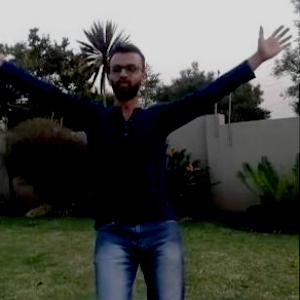takeoff: (1, 32, 290, 299)
